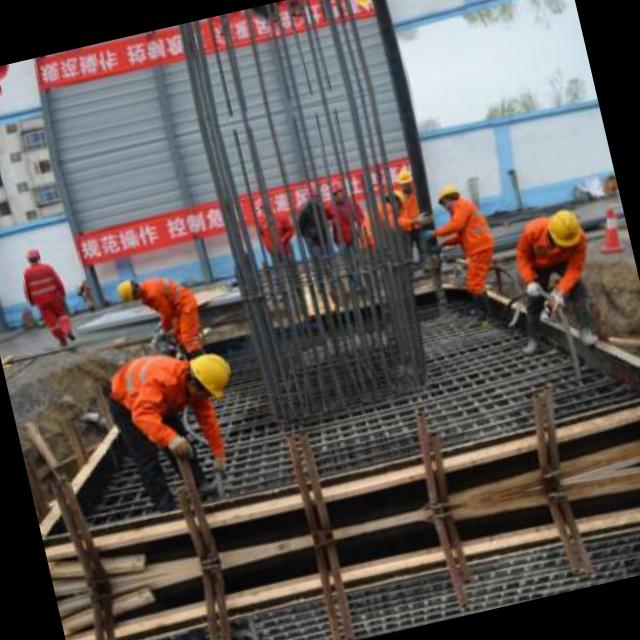helmet: (180, 347, 236, 402), (538, 203, 588, 260), (107, 271, 145, 304), (429, 176, 463, 212), (296, 176, 322, 206), (258, 12, 284, 42), (392, 164, 417, 194), (20, 240, 43, 267), (381, 182, 404, 209), (287, 5, 308, 30), (326, 176, 347, 200), (349, 0, 374, 11), (0, 78, 6, 105)
